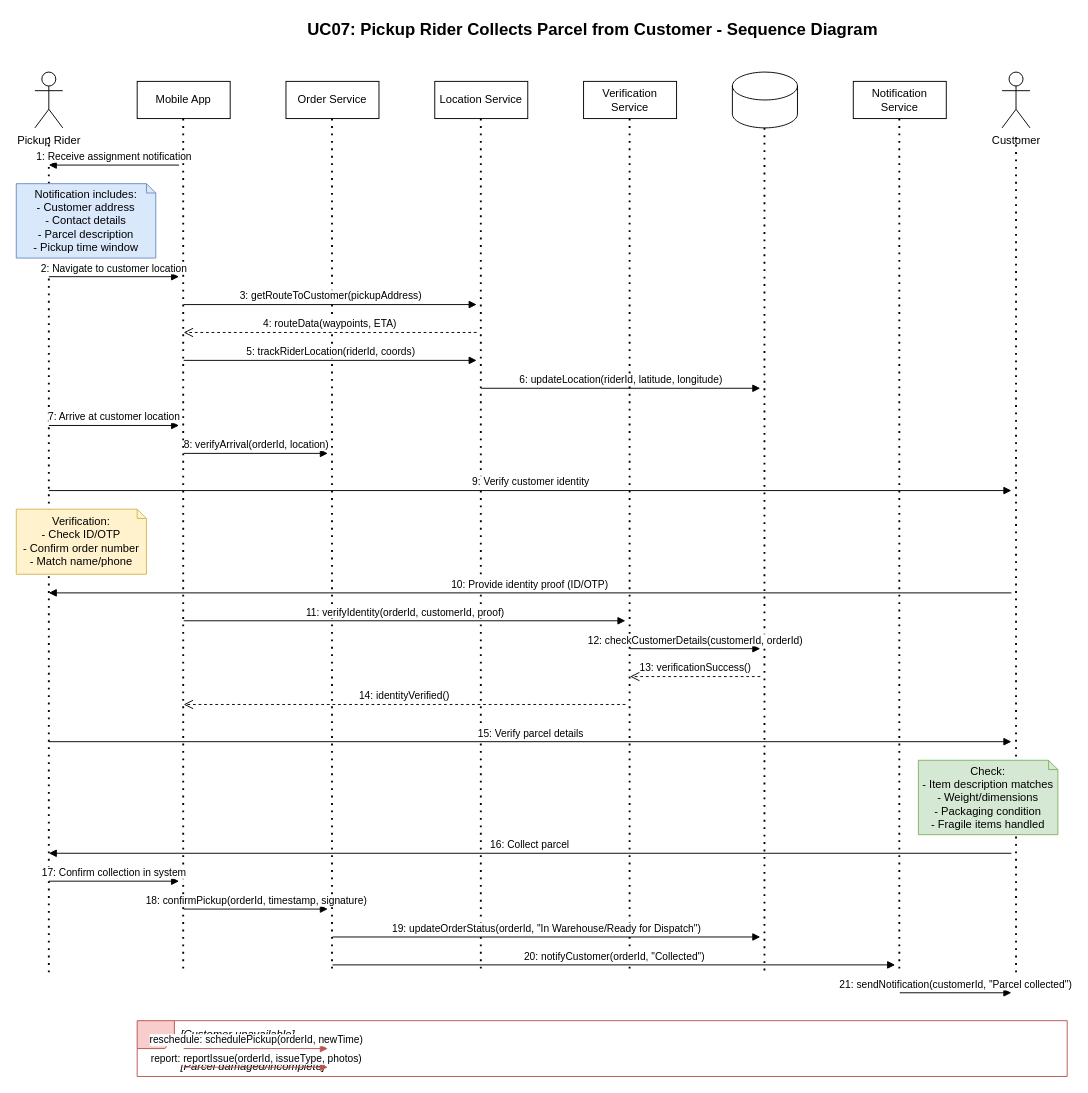
Some shapes in this 1088 by 1093 pixel diagram are drawn without their labels. Here are the shapes that lost their labels. From the top down, the box of each, then its label:
(731, 71, 797, 128): Database
(136, 1020, 1067, 1076): alt
